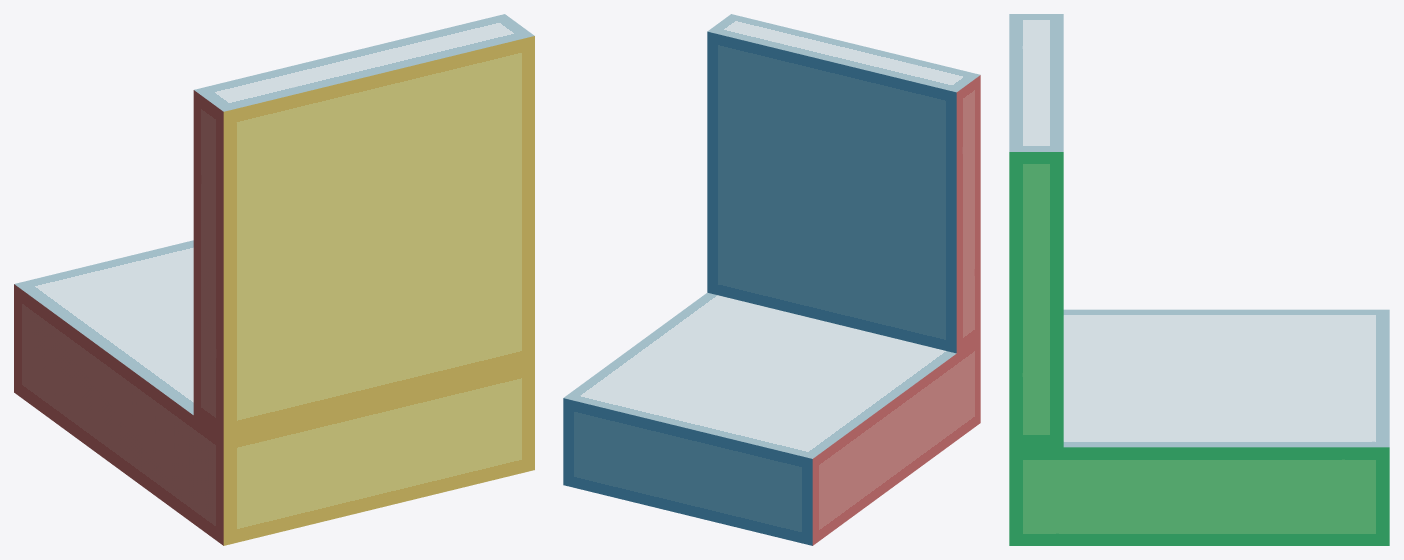
The model's file is control_seat.gltf.
3 renders of one model, left to right at view 1: azimuth 30°, elevation 25°; view 2: azimuth 150°, elevation 25°; view 3: azimuth 270°, elevation 25°, orthographic. The views are drawn at different scales.
Visible parts, largest first — view 1: cuboid (×2); view 2: cuboid (×2); view 3: cuboid (×2).
Boxes of the visible parts, x1=… form: cuboid (×2): x1=14, y1=14, x2=534, y2=545; cuboid (×2): x1=563, y1=14, x2=980, y2=545; cuboid (×2): x1=1009, y1=14, x2=1389, y2=545.
Size of the model in its own units: 0.75 by 1 by 0.875.
1 material, 1 textured.
